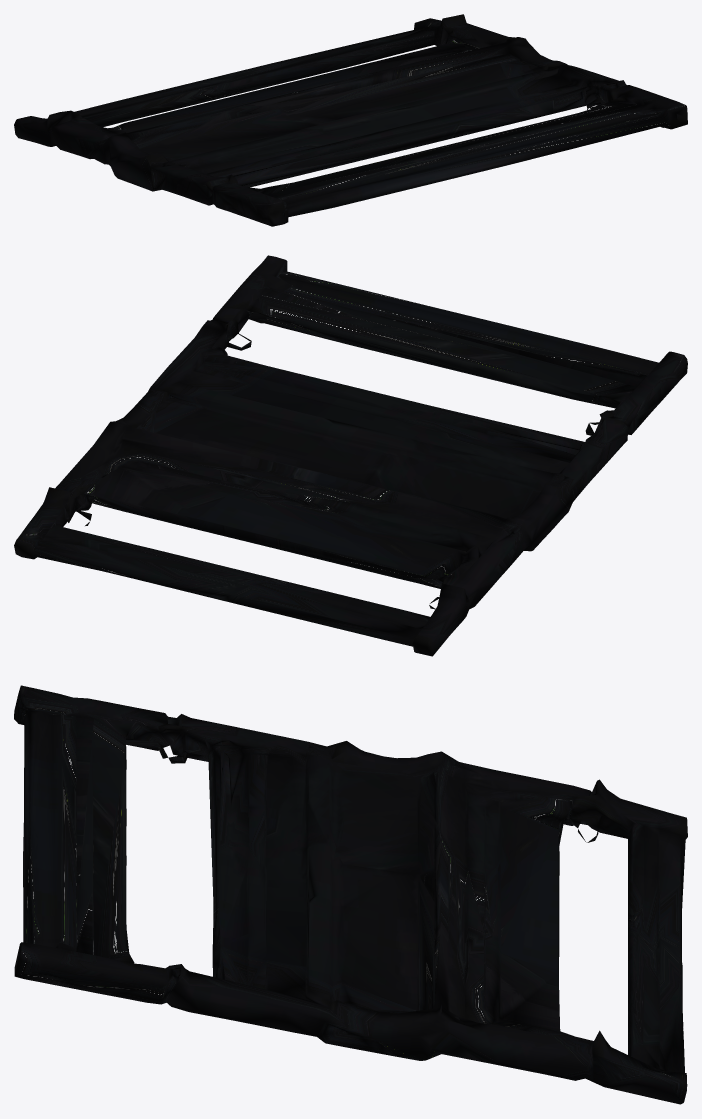
The model's file is zatla-growlight-lite.glb.
The picture shows the model from 3 angles, top to bottom: view 1: azimuth 30°, elevation 25°; view 2: azimuth 150°, elevation 25°; view 3: azimuth 270°, elevation 25°; orthographic projection. The views are drawn at different scales.
Visible parts, largest first — view 1: model; view 2: model; view 3: model.
Boxes of the visible parts, x1,y1,x2,y2 form: model: [14, 14, 687, 226]; model: [14, 255, 687, 656]; model: [14, 685, 687, 1104].
Size of the model in its own units: 0.1425 by 0.0378 by 0.1499.
Materials: 1 (1 with a texture image).
